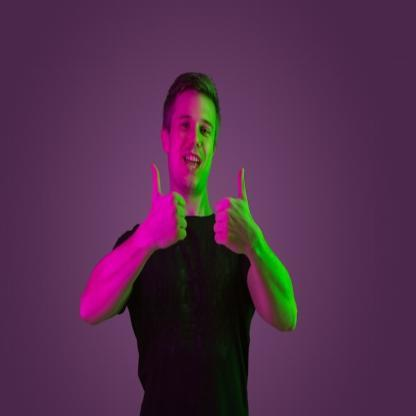thumb_up: (141, 159, 189, 251), (213, 165, 256, 257)
